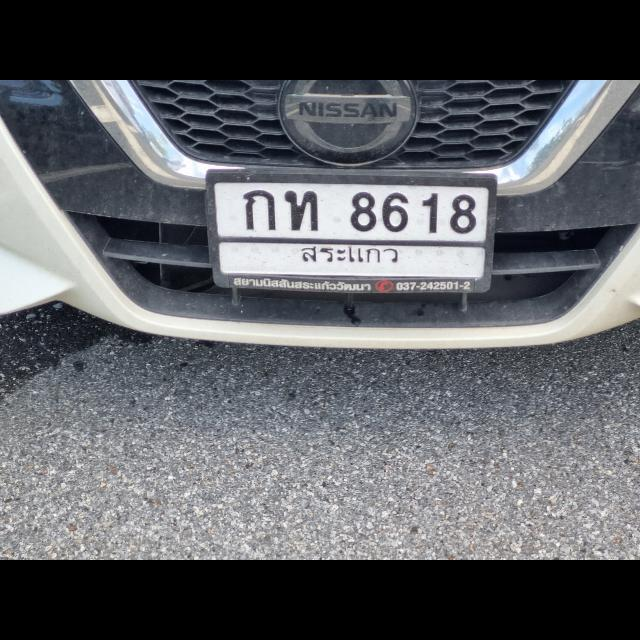licenseplate: (203, 168, 497, 294)
